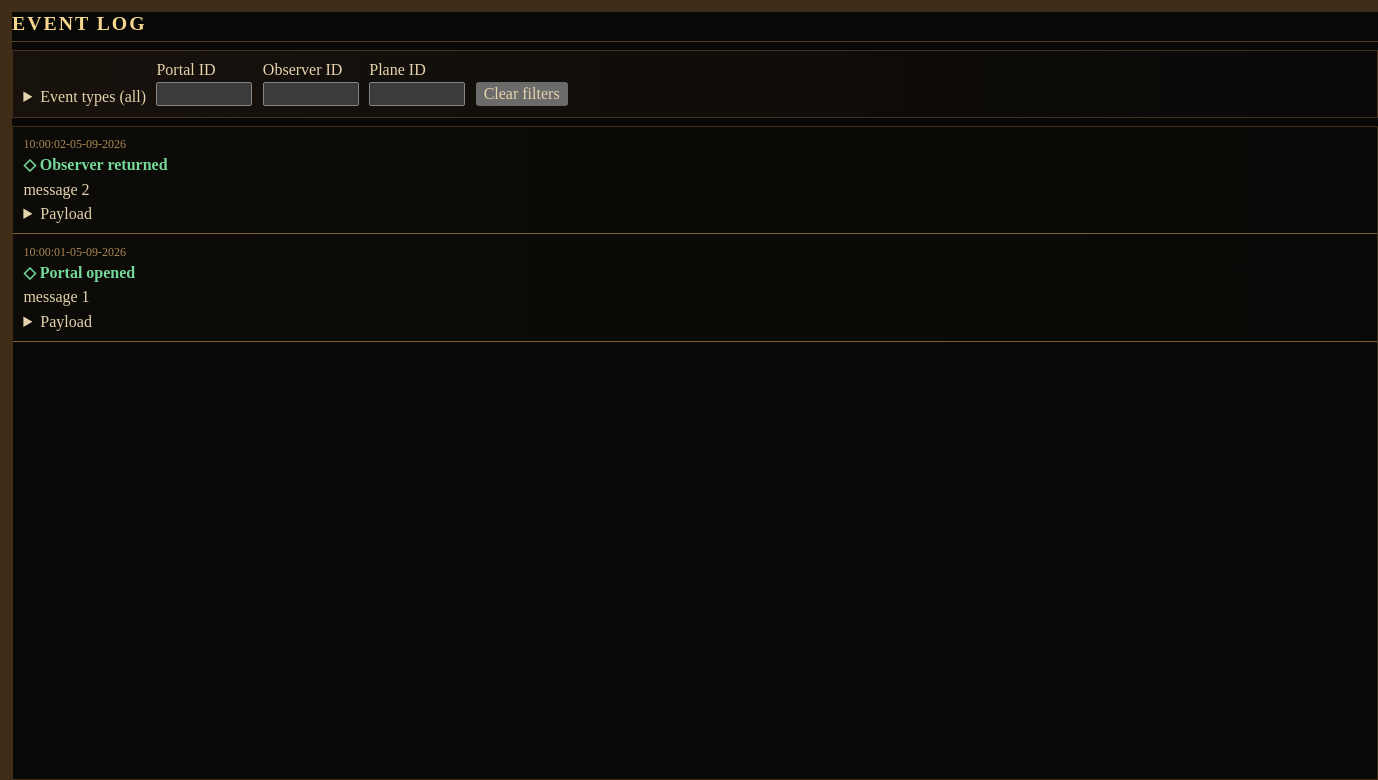
Test: EventLogPage › renders the complete API source in received order and payload as text
Click the heading "Payload" below "message 2" at (66, 213), box top-left (40, 205), bottom-right (92, 222)
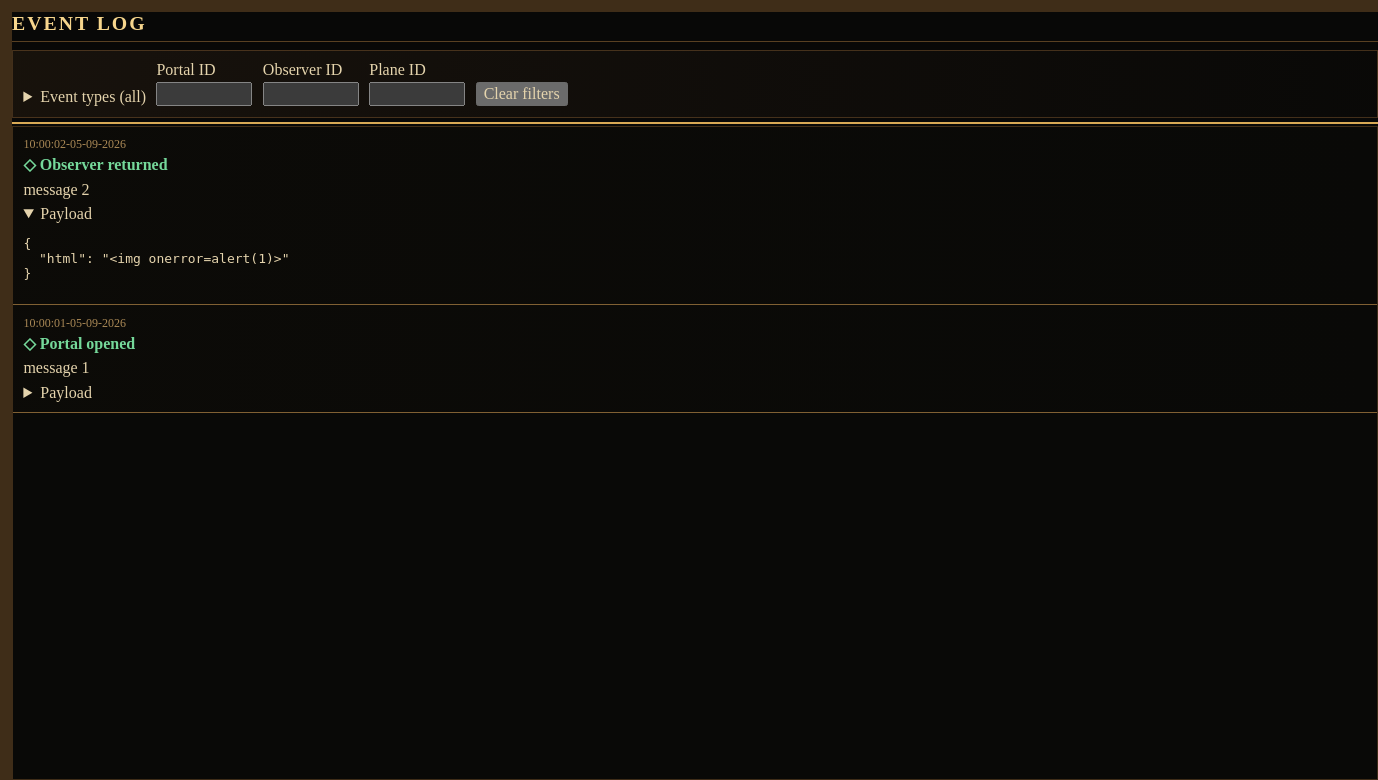
Check: the text "{ \"html\": \"<img onerror=alert(1)>\" }" is shown, box top-left (23, 236), bottom-right (290, 281)
